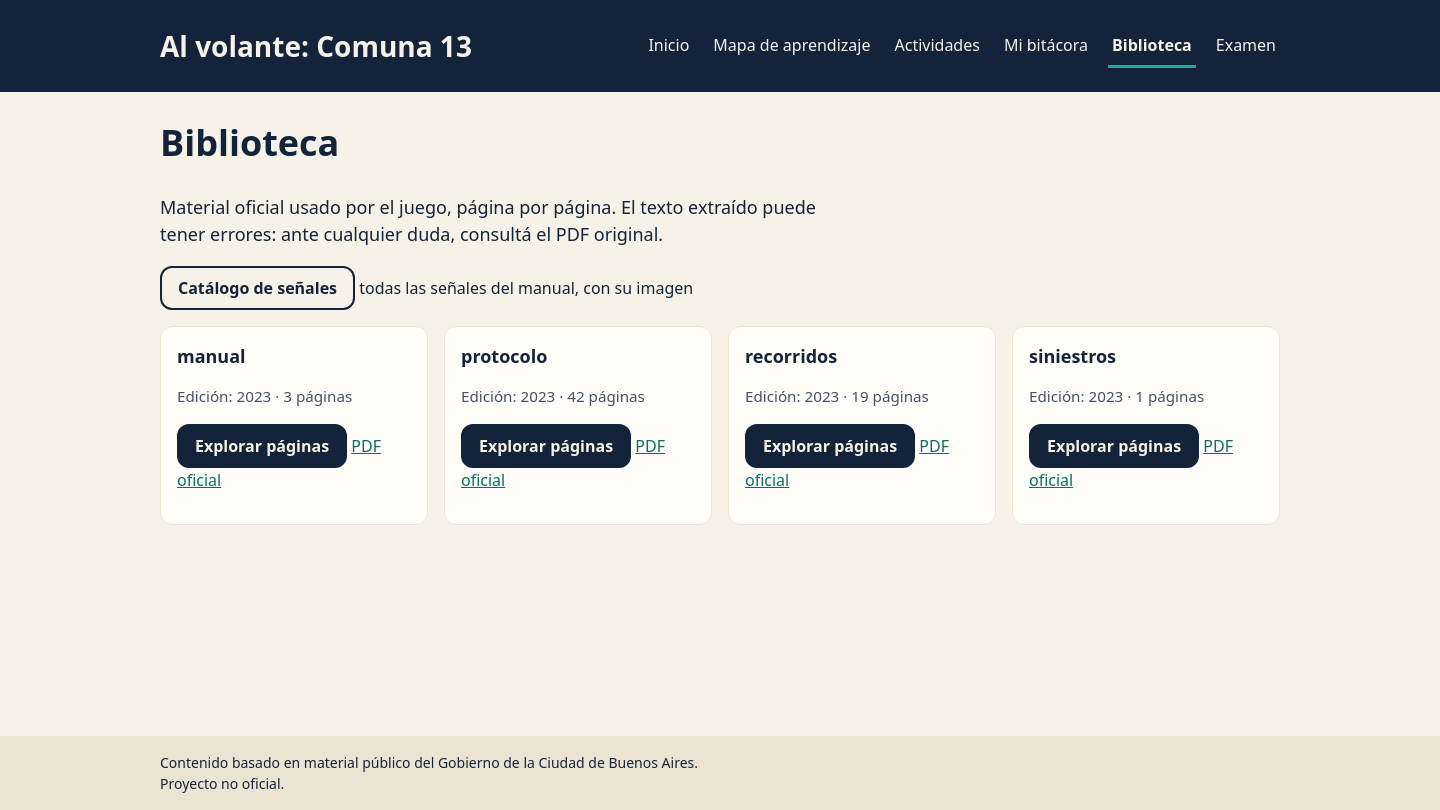
sign catalog › marks signs kept for reference and is linked from the library
Click the link "Catálogo de señales".
click(258, 288)  # box x1=160 y1=266 x2=355 y2=310
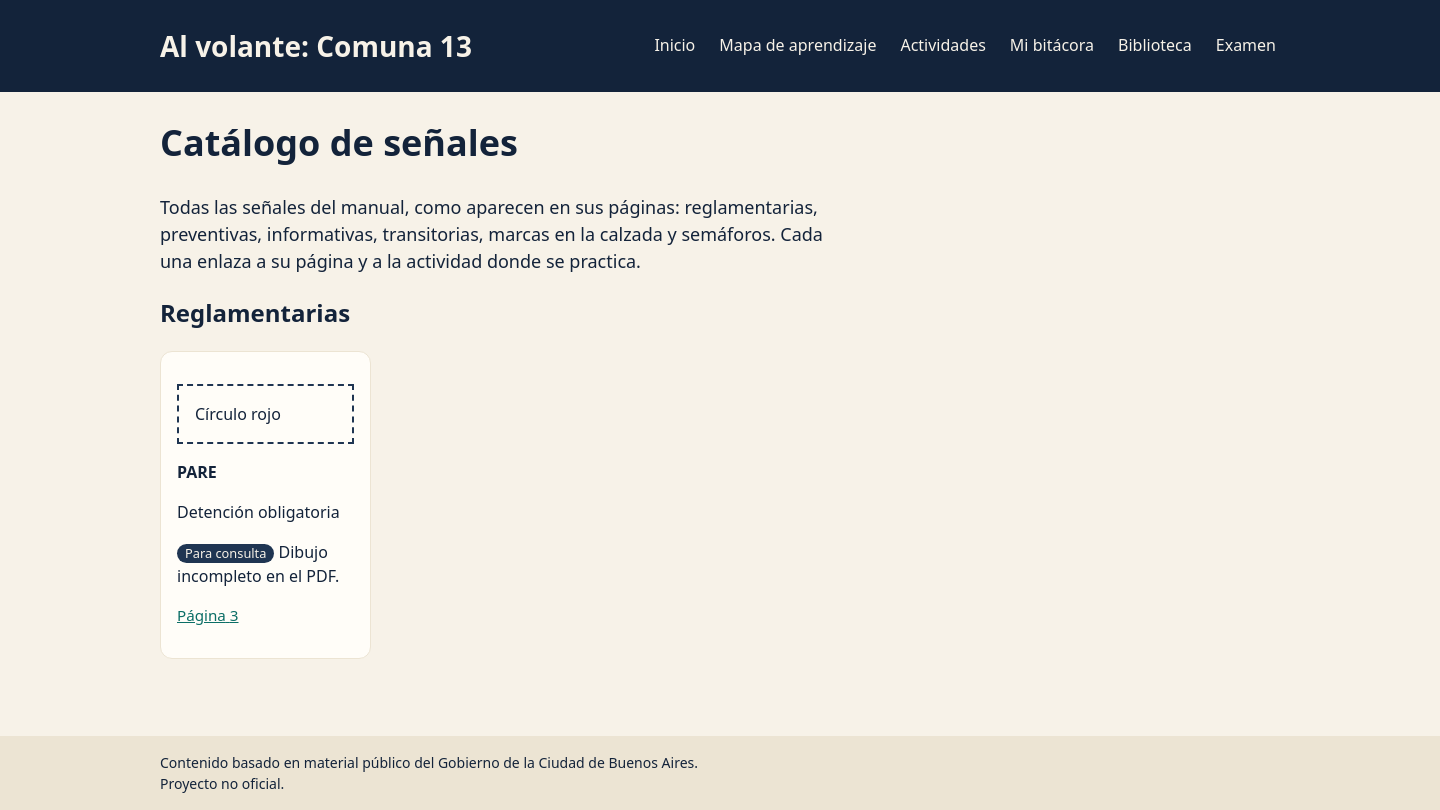
Result: the text "Dibujo incompleto en el PDF." is shown at x1=177 y1=541 x2=339 y2=587
Result: the text "Para consulta" is shown at x1=177 y1=544 x2=274 y2=563
